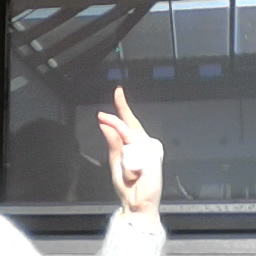K: (95, 82, 170, 209)
